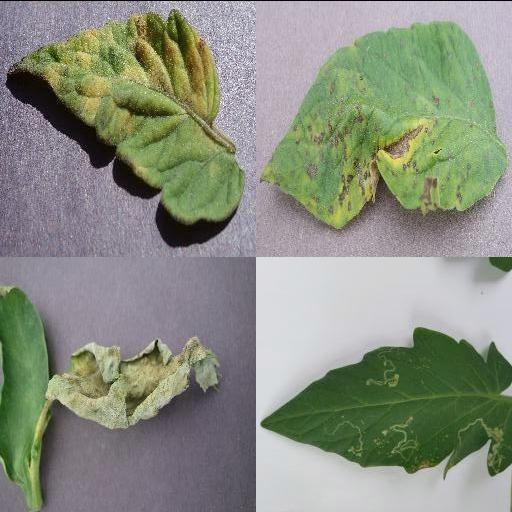Late Blight: (43, 334, 229, 428)
Leaf Miner: (260, 325, 512, 477)
Leaf Mold: (9, 8, 245, 221)
Septoria: (259, 22, 509, 226)
